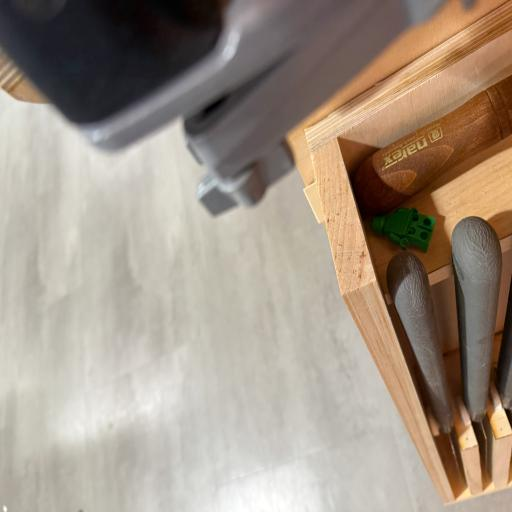Lego-Dude: (362, 203, 437, 256)
